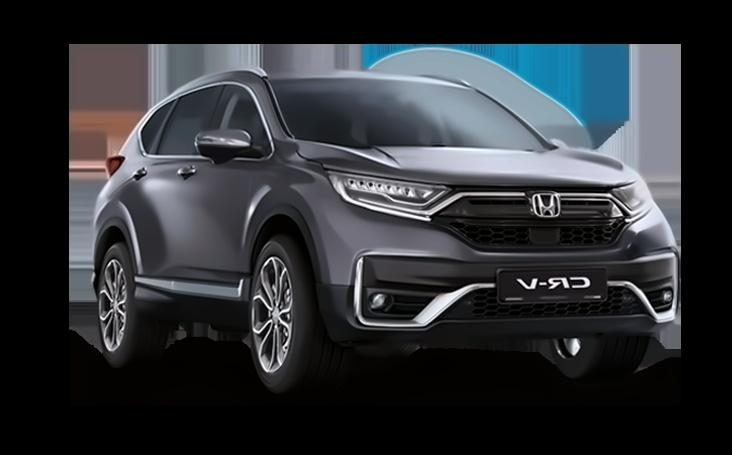Car hood: (294, 140, 643, 188)
Driver-s door - -F-R-: (166, 65, 281, 321)
Fender - -F-R-: (234, 131, 335, 304)
Front bumper: (314, 249, 684, 369)
Headlight - -L-: (608, 178, 659, 221)
Headlight - -R-: (319, 169, 454, 224)
Passenger-s door - -R-R-: (124, 62, 222, 322)
Side bumper - -R-: (132, 262, 255, 323)
Side mirror - -R-: (85, 108, 157, 278), (197, 129, 269, 172)
